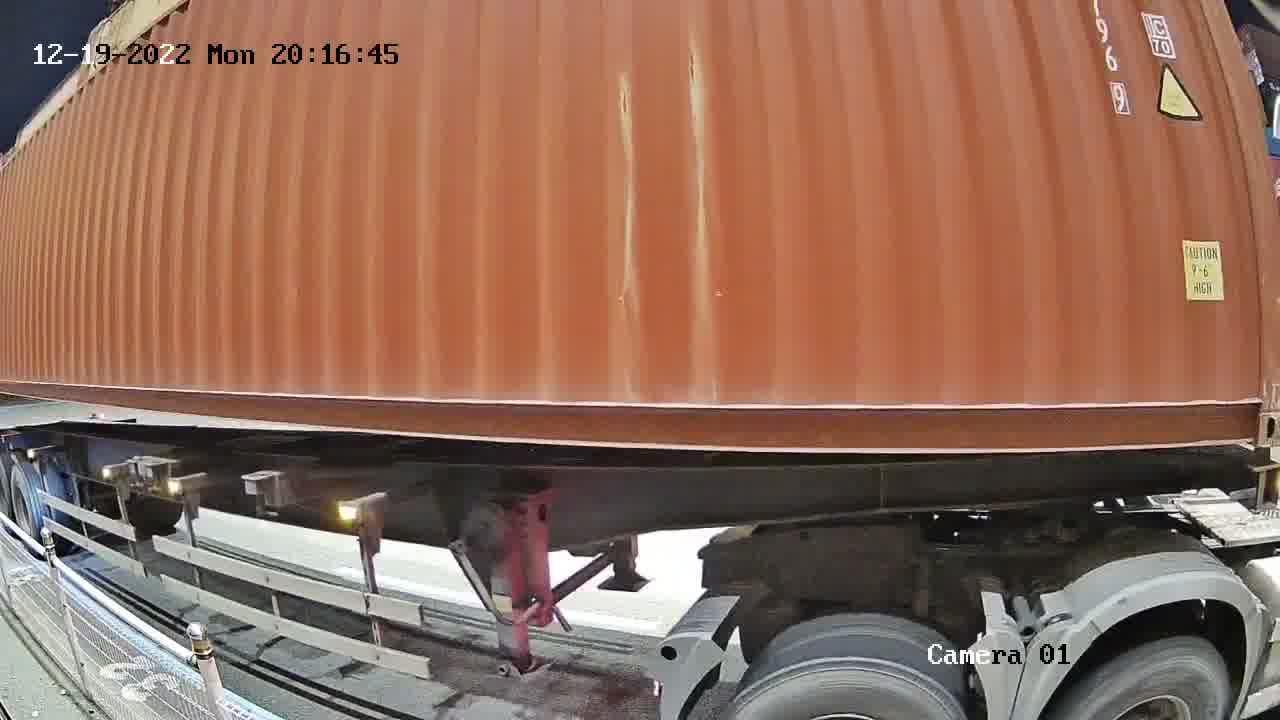Cone: (1246, 449, 1276, 510)
Hole_R: (1210, 378, 1279, 445)
Tire: (723, 661, 963, 719), (1069, 639, 1231, 718)
